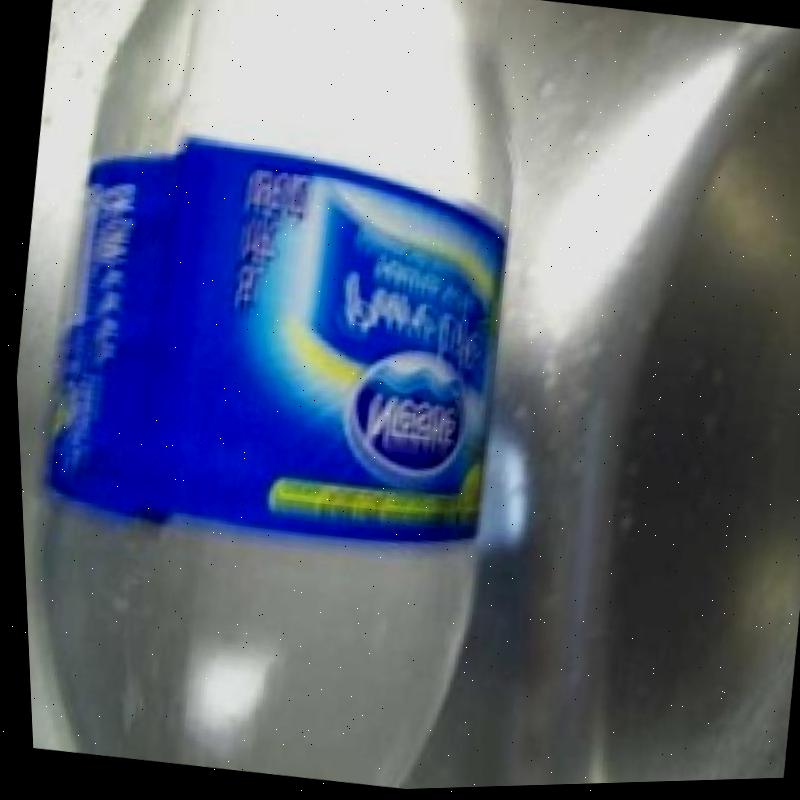botella: (0, 0, 564, 800)
